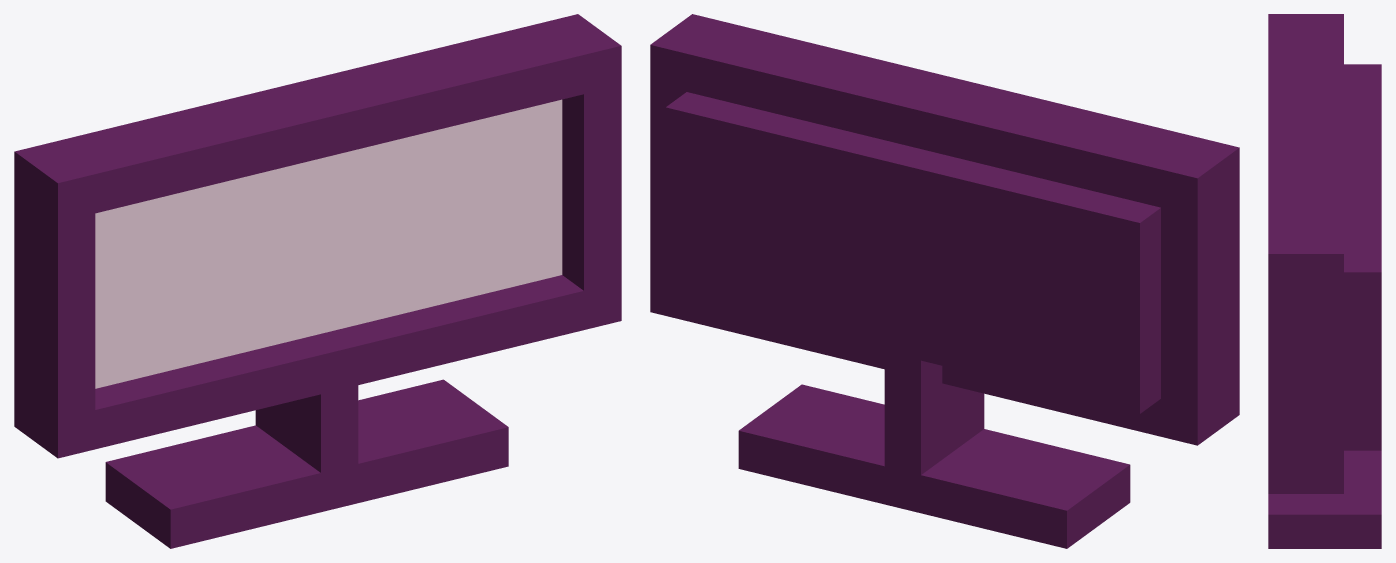
The model's file is Ordenador tele.obj.
3 renders of one model, left to right at view 1: azimuth 30°, elevation 25°; view 2: azimuth 150°, elevation 25°; view 3: azimuth 270°, elevation 25°, orthographic. The views are drawn at different scales.
Size of the model in its own units: 1.5 by 1 by 0.3.
1 material, 1 textured.
